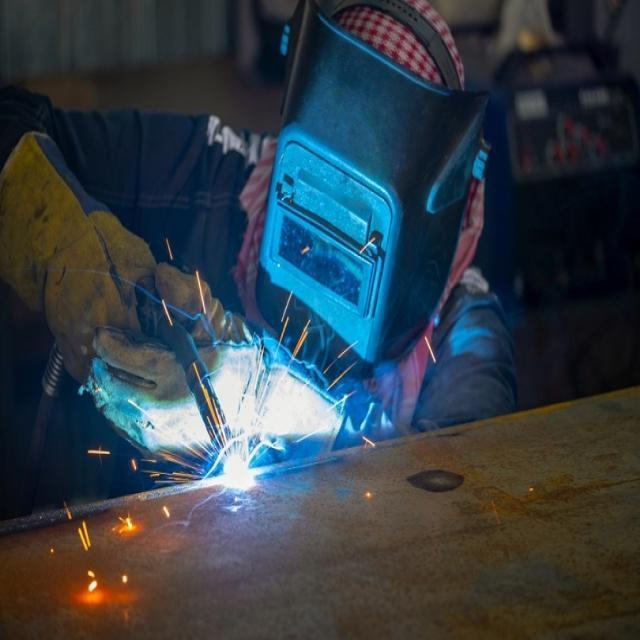with_helmet: (259, 0, 487, 364)
